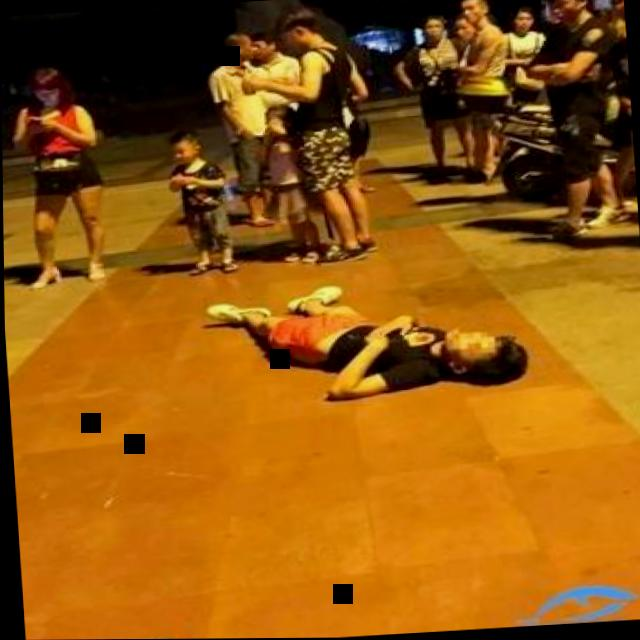Fall-Detected: (204, 254, 542, 416)
